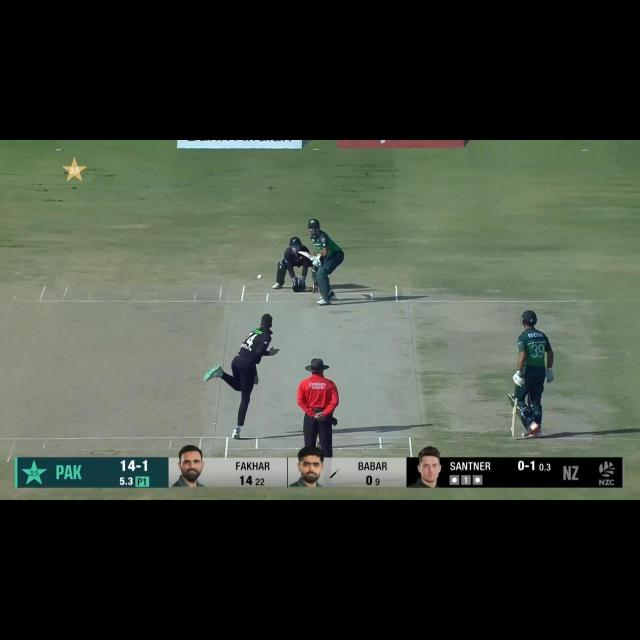bat: (505, 405, 519, 437), (297, 250, 313, 260)
toe: (509, 428, 517, 437), (298, 250, 305, 256)
